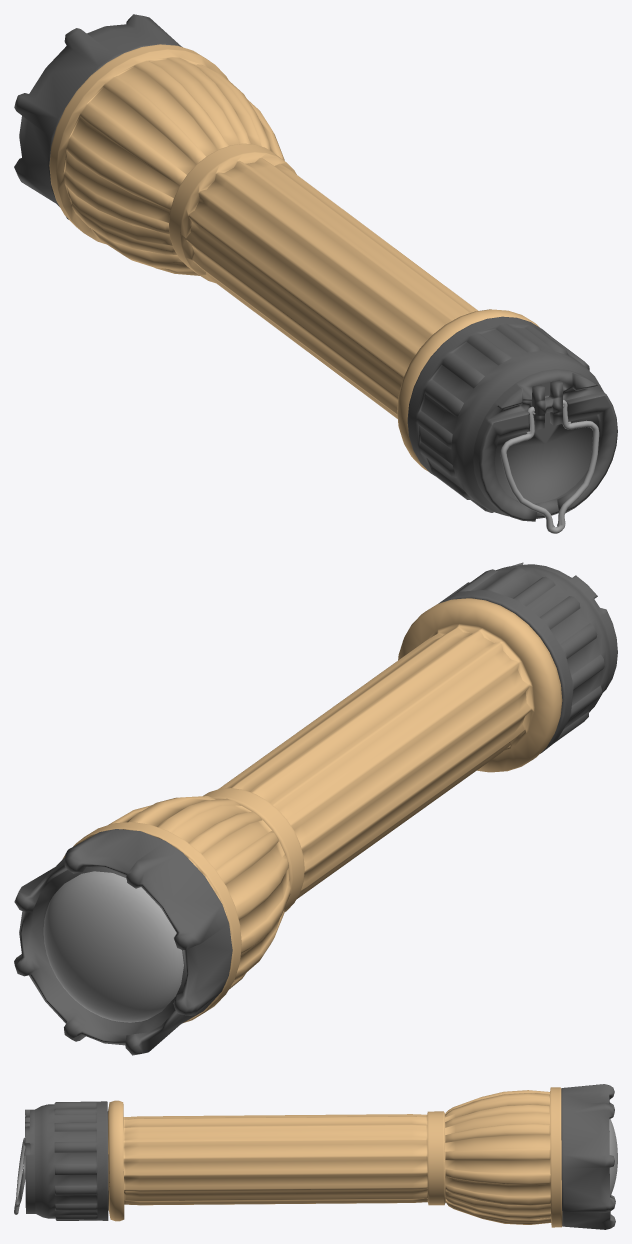
The model's file is Flashlight_single.fbx.
The picture shows the model from 3 angles, top to bottom: view 1: azimuth 30°, elevation 25°; view 2: azimuth 150°, elevation 25°; view 3: azimuth 270°, elevation 25°; orthographic projection. The views are drawn at different scales.
Visible parts, largest first — view 1: flashlight.002, clip; view 2: flashlight.002; view 3: flashlight.002, clip.
Boxes of the visible parts, x1,y1,x2,y2 form: flashlight.002: (14,14,617,521); clip: (500,400,599,533); flashlight.002: (14,562,617,1055); flashlight.002: (25,1084,617,1229); clip: (14,1137,25,1214).
Size of the model in its own units: 283 by 283 by 1217.
